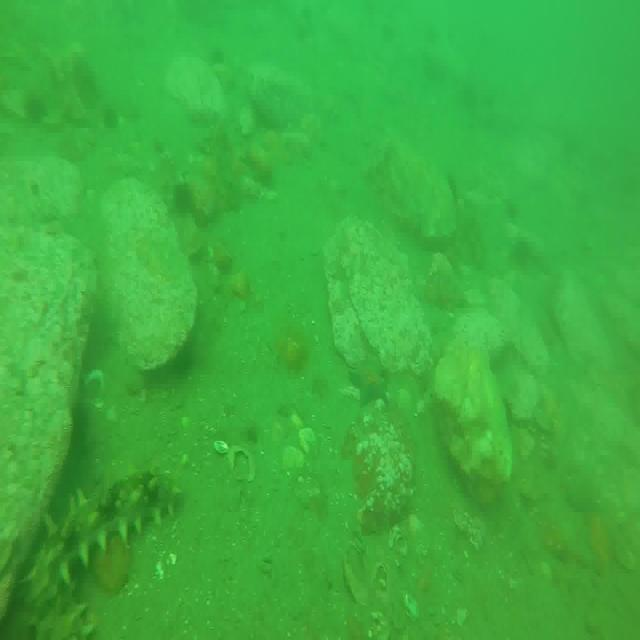echinus: (174, 180, 192, 219)
holothurian: (18, 487, 184, 640)
starfish: (348, 354, 391, 405)
